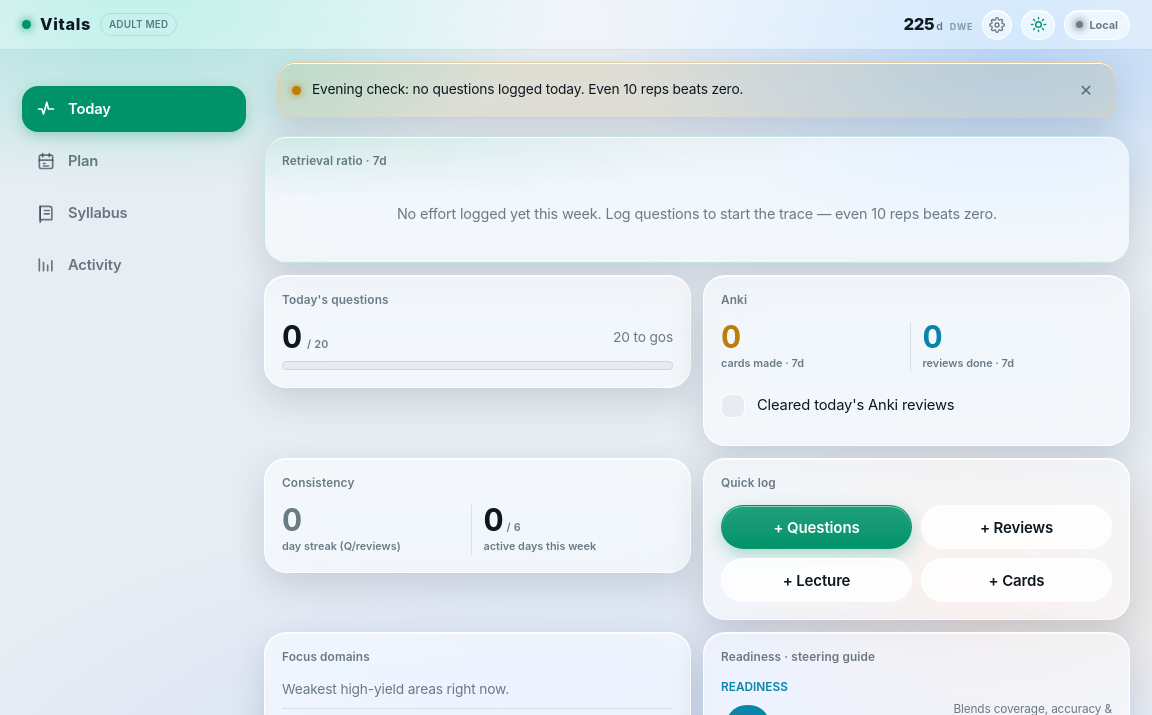
Test case: Vitals is functional end-to-end › logging questions updates the daily goal and retrieval ratio
The width and height of the screenshot is (1152, 715).
Expected: the text "In band" is not shown
Click the button "+ Questions" at (816, 527), box [721, 505, 912, 549]
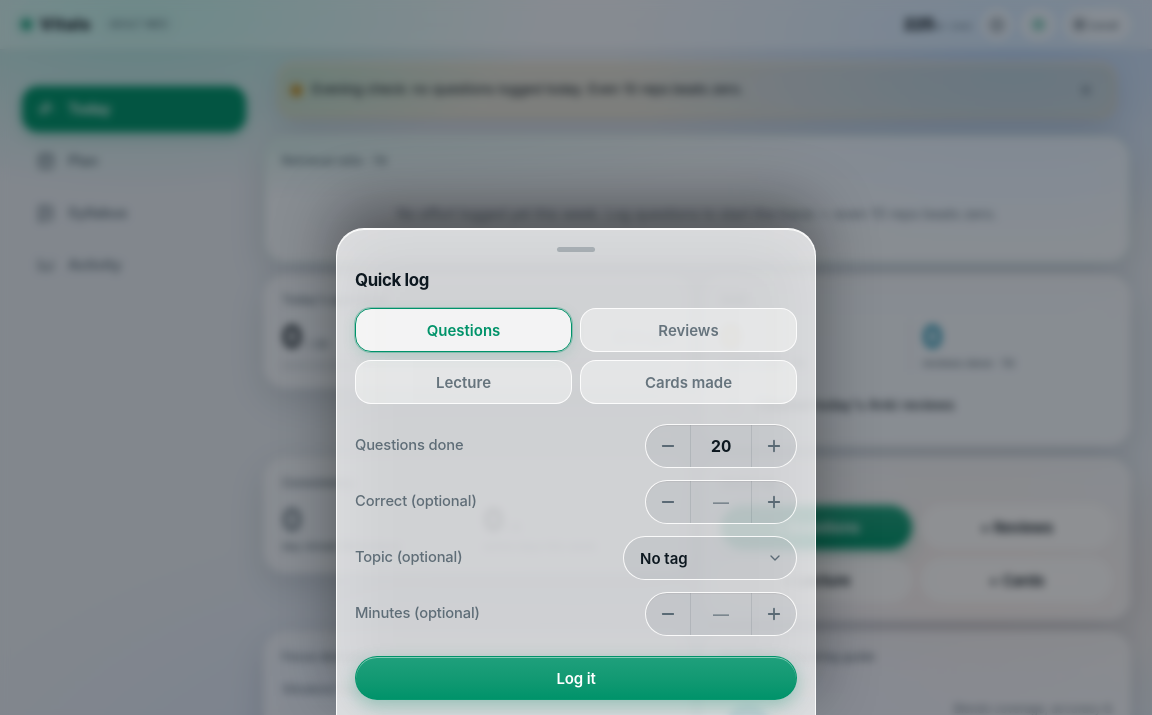
Click the button "Log it" at (576, 678), box [355, 656, 797, 700]
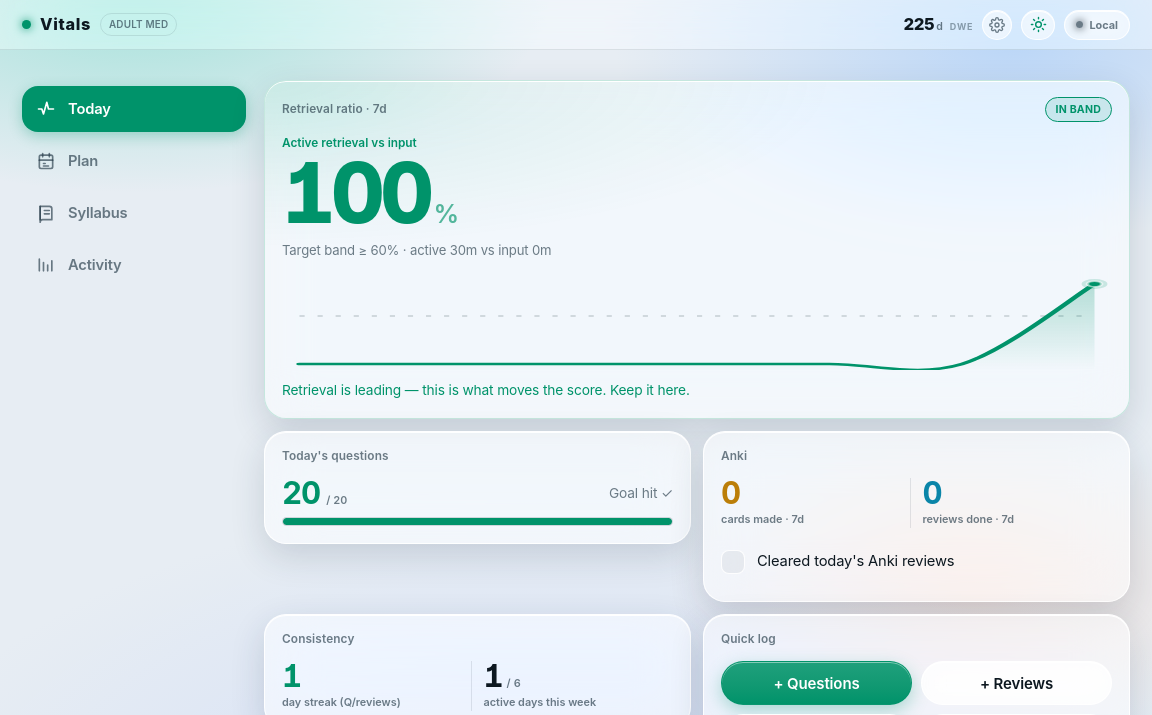
Now the text "Goal hit ✓" is shown, box [609, 484, 673, 504]
Now the text "In band" is shown, box [1044, 97, 1112, 122]
